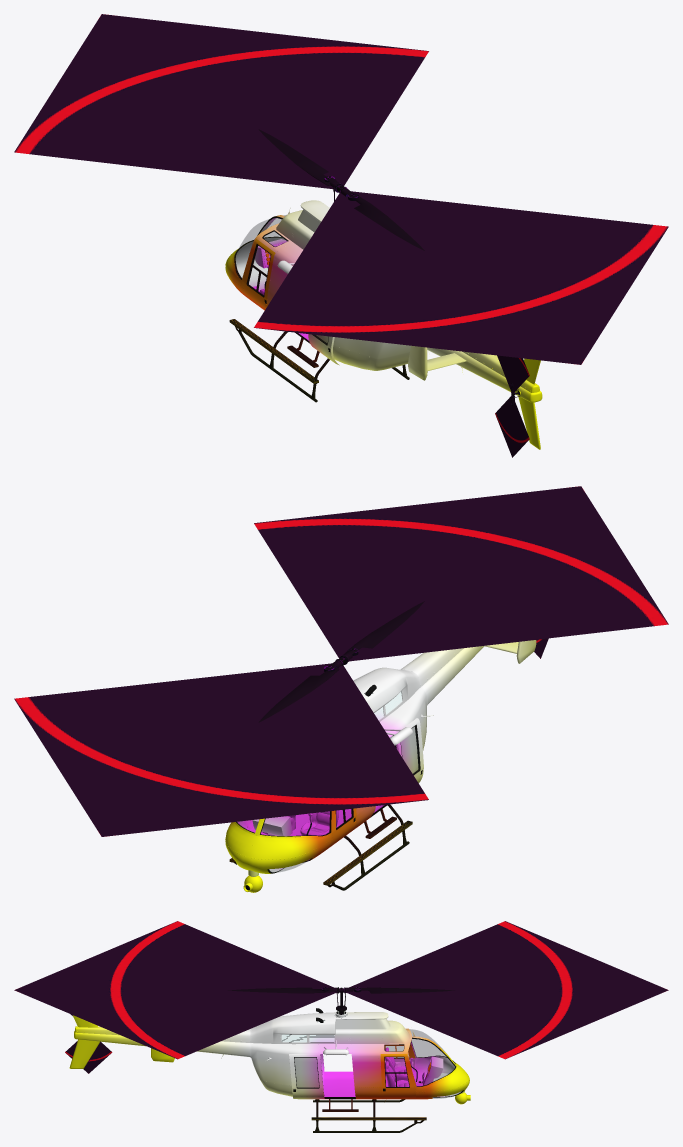
Rendered from maverick2.glb.
3 views of the same model, one above another, from view 1: azimuth 30°, elevation 25°; view 2: azimuth 150°, elevation 25°; view 3: azimuth 270°, elevation 25° (orthographic). The views are drawn at different scales.
Parts seen in each view (by area): view 1: rotor_main_fast, bodyshell, tail, rotor_rear_fast, rotor_main_slow, suspension_lf, chassis, door_dside_f, windscreen; view 2: rotor_main_fast, bodyshell, tail, chassis, rotor_main_slow, windscreen, suspension_lf; view 3: rotor_main_fast, bodyshell, chassis, tail, windscreen_r, door_pside_f, suspension_rf, rotor_main_slow, window_rr, window_rf, rotor_rear_fast.
Part boxes in pixels (x1=…): rotor_main_fast: x1=14, y1=14, x2=668, y2=364; bodyshell: x1=225, y1=200, x2=410, y2=370; tail: x1=408, y1=345, x2=542, y2=449; rotor_rear_fast: x1=495, y1=355, x2=529, y2=457; rotor_main_slow: x1=258, y1=129, x2=424, y2=250; suspension_lf: x1=229, y1=319, x2=329, y2=402; chassis: x1=235, y1=218, x2=308, y2=340; door_dside_f: x1=242, y1=239, x2=275, y2=310; windscreen: x1=236, y1=217, x2=281, y2=277; rotor_main_fast: x1=14, y1=486, x2=668, y2=836; bodyshell: x1=225, y1=667, x2=433, y2=876; tail: x1=400, y1=640, x2=536, y2=703; chassis: x1=237, y1=736, x2=392, y2=872; rotor_main_slow: x1=258, y1=601, x2=424, y2=722; windscreen: x1=261, y1=812, x2=330, y2=835; suspension_lf: x1=323, y1=804, x2=412, y2=890; rotor_main_fast: x1=14, y1=921, x2=668, y2=1059; bodyshell: x1=250, y1=1008, x2=469, y2=1111; chassis: x1=320, y1=1042, x2=461, y2=1096; tail: x1=69, y1=1015, x2=250, y2=1068; windscreen_r: x1=409, y1=1038, x2=454, y2=1085; door_pside_f: x1=380, y1=1054, x2=415, y2=1099; suspension_rf: x1=311, y1=1099, x2=426, y2=1132; rotor_main_slow: x1=228, y1=987, x2=454, y2=993; window_rr: x1=295, y1=1058, x2=318, y2=1087; window_rf: x1=385, y1=1057, x2=408, y2=1086; rotor_rear_fast: x1=65, y1=1014, x2=112, y2=1073.
Bounding box in the file's own units: 9.66 × 4.24 × 19.31.
Materials: 10 (6 with a texture image).
